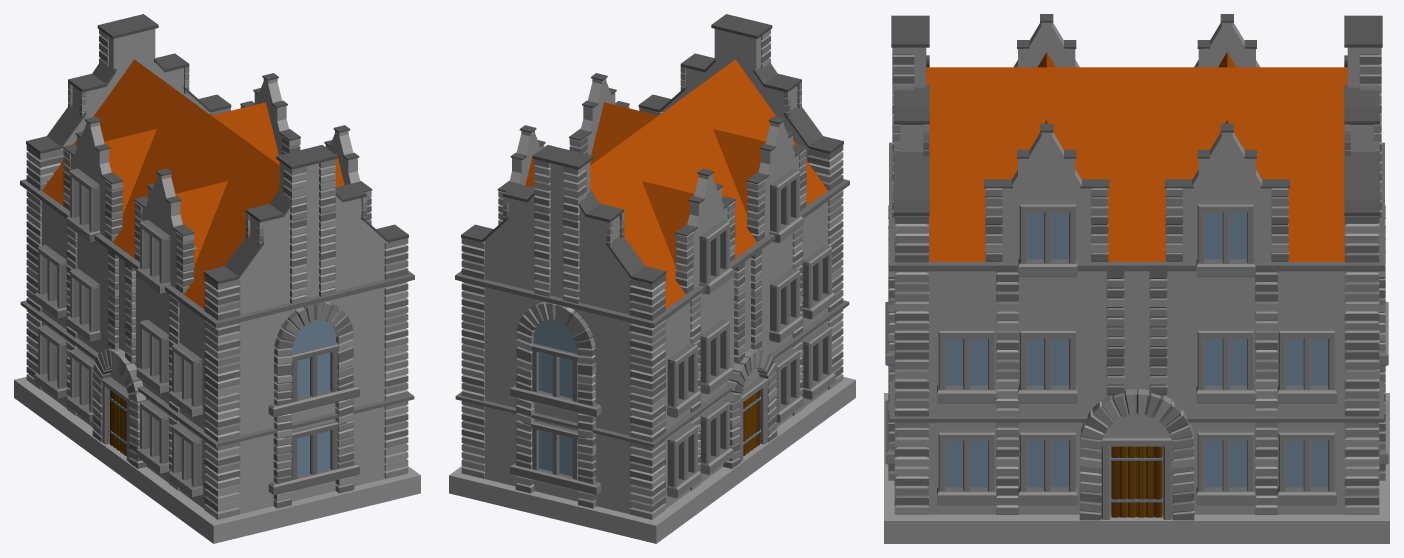
The model's file is castle_town_house_1.fbx.
The picture shows the model from 3 angles, left to right: view 1: azimuth 30°, elevation 25°; view 2: azimuth 150°, elevation 25°; view 3: azimuth 270°, elevation 25°; orthographic projection. The views are drawn at different scales.
Parts seen in each view (by area): view 1: house.001; view 2: house.001; view 3: house.001.
Part boxes in pixels (x1,y1,x2,y2): house.001: (14, 14, 420, 543); house.001: (449, 14, 855, 543); house.001: (884, 14, 1389, 543).
Bounding box in the file's own units: 9998 × 9811 × 6031.
